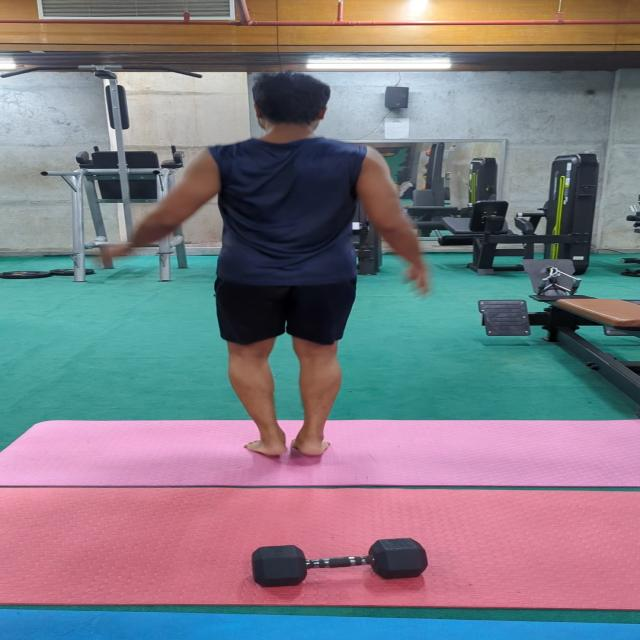Normal_JumpingJacks: (91, 63, 494, 466)
